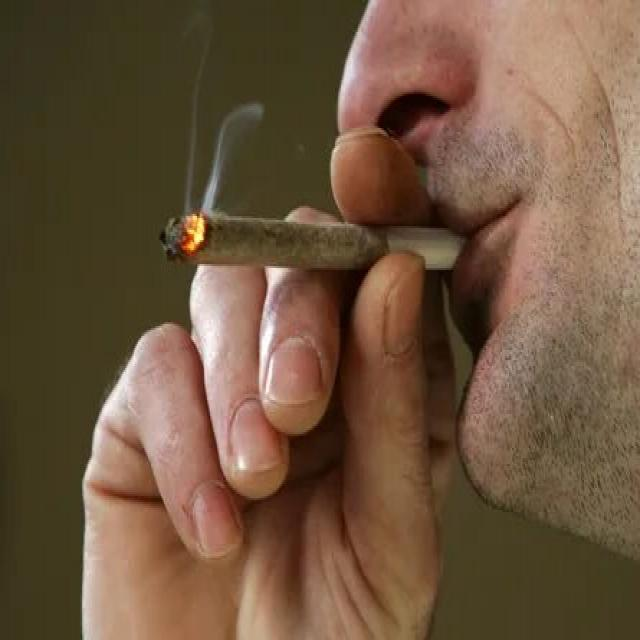cigarette: (157, 200, 473, 300)
